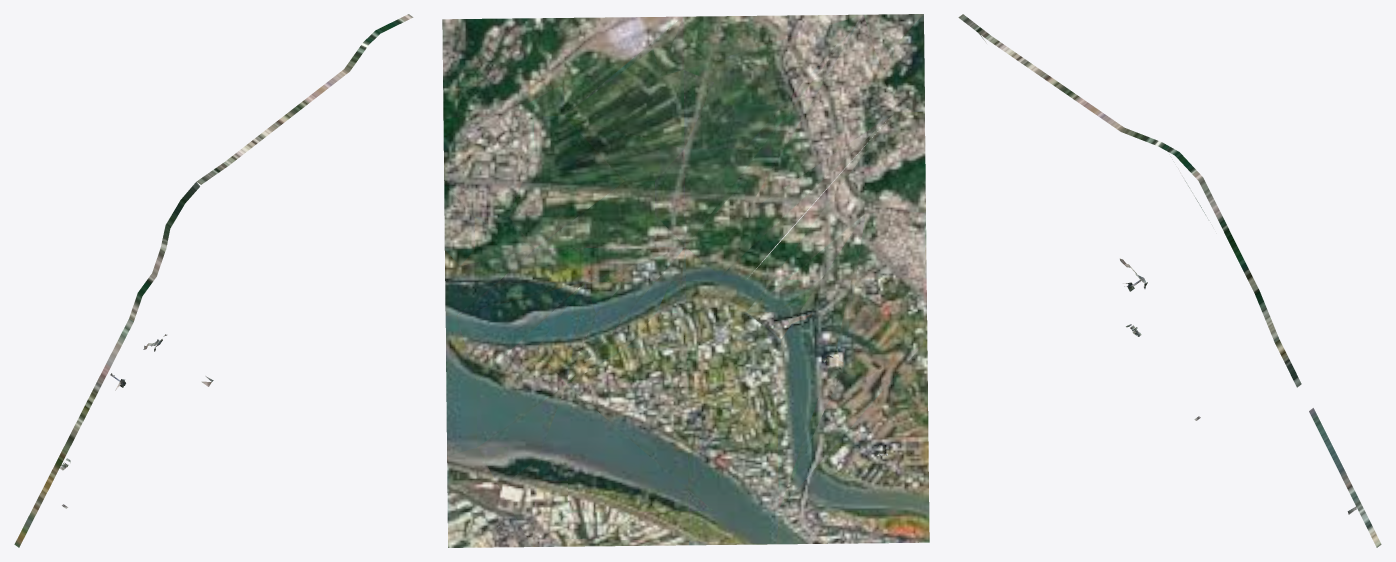
3 views of the same model, side by side, from view 1: azimuth 30°, elevation 25°; view 2: azimuth 150°, elevation 25°; view 3: azimuth 270°, elevation 25° (orthographic). The views are drawn at different scales.
Bounding box in the file's own units: 4877 × 4491 × 4115.
Materials: 1 (1 with a texture image).
